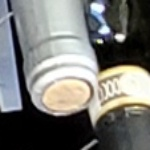bottle: (20, 44, 115, 124)
